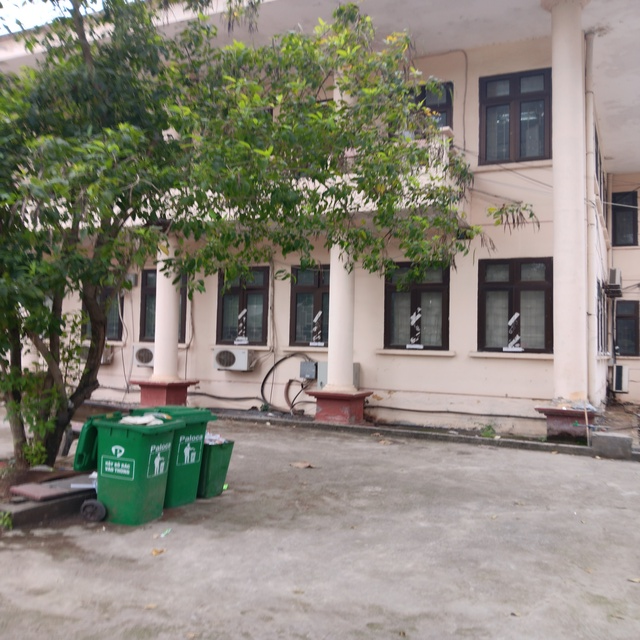thungrac: (88, 416, 168, 521), (144, 410, 207, 505), (206, 435, 233, 500)
